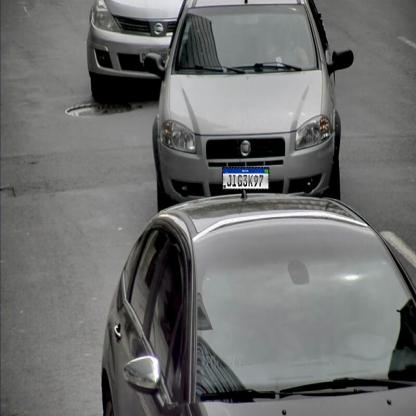PlacaM: (222, 167, 269, 190)
